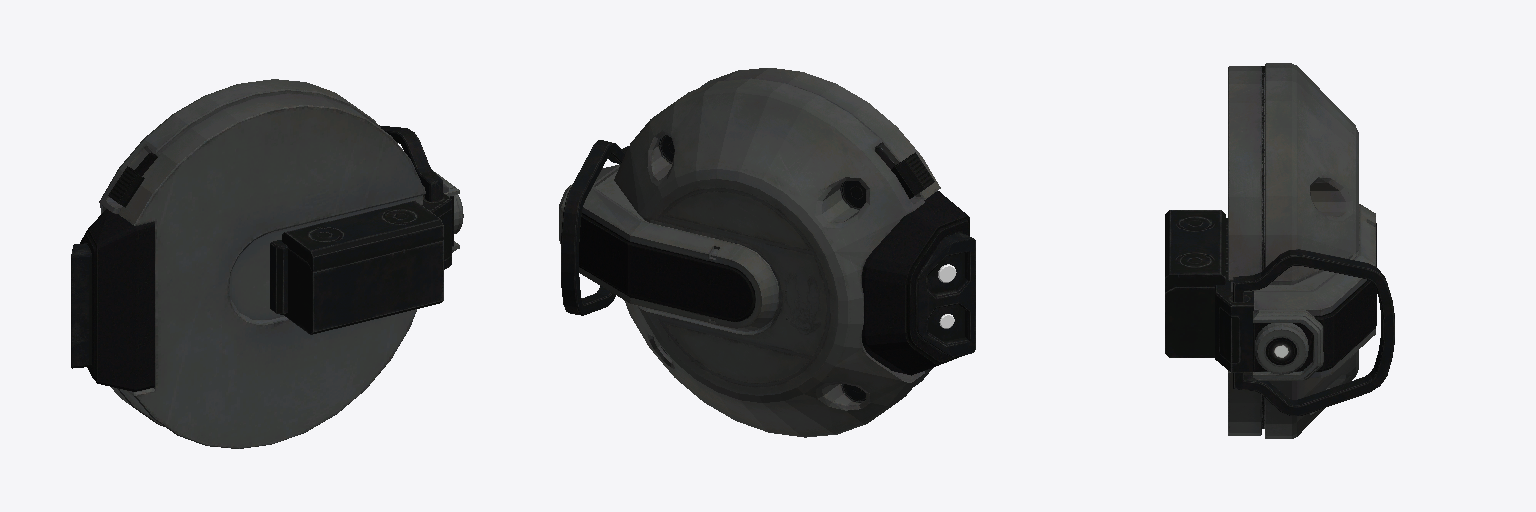
3 renders of one model, left to right at view 1: azimuth 30°, elevation 25°; view 2: azimuth 150°, elevation 25°; view 3: azimuth 270°, elevation 25°, orthographic.
Visible parts, largest first — view 1: laser_puck; view 2: laser_puck; view 3: laser_puck.
Boxes of the visible parts, x1,y1,x2,y2 form: laser_puck: [71, 79, 463, 448]; laser_puck: [559, 68, 975, 437]; laser_puck: [1165, 63, 1394, 438].
Size of the model in its own units: 0.0666 by 0.0552 by 0.0339.
3 materials, 1 textured.